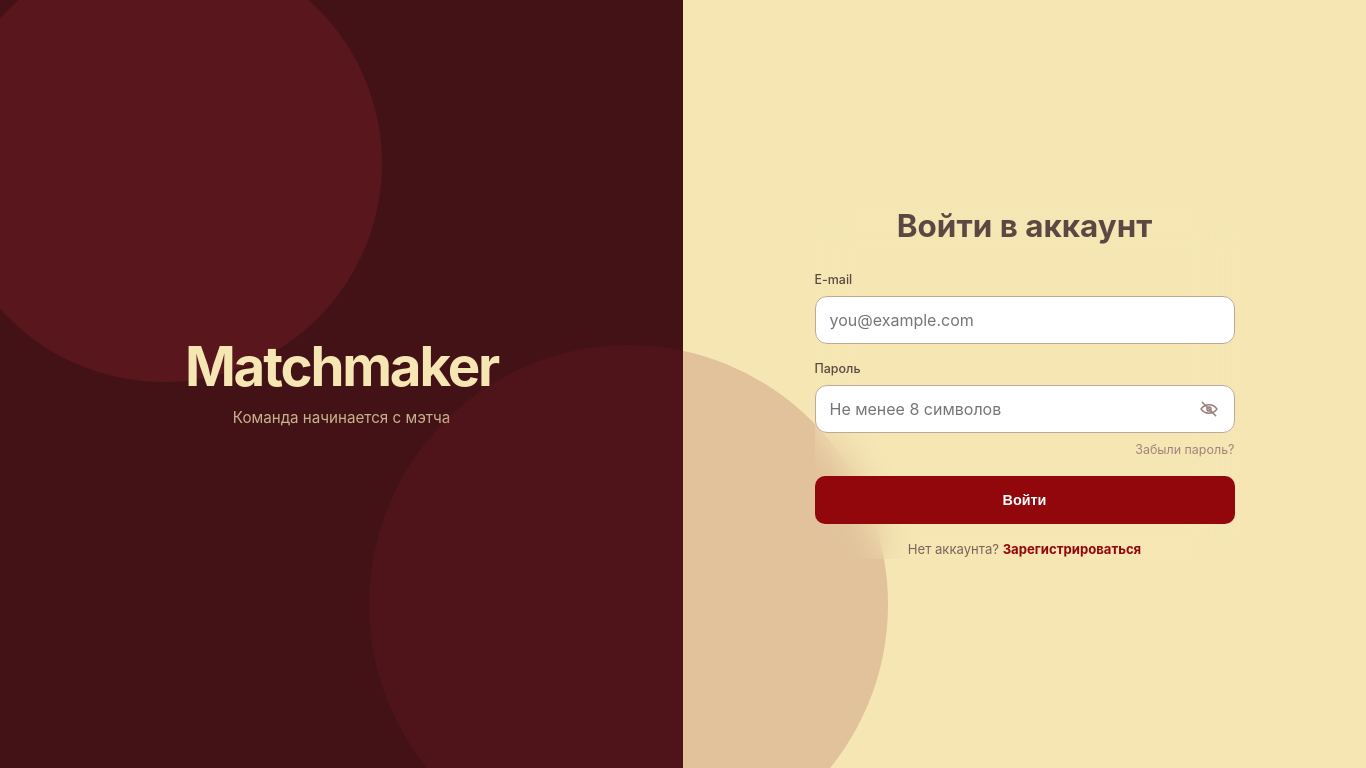
Test: auth pages › shows client validation errors under the corresponding fields
Type "invalid-email" into the field labelled "E-mail" at (1024, 320), box [814, 296, 1234, 344]
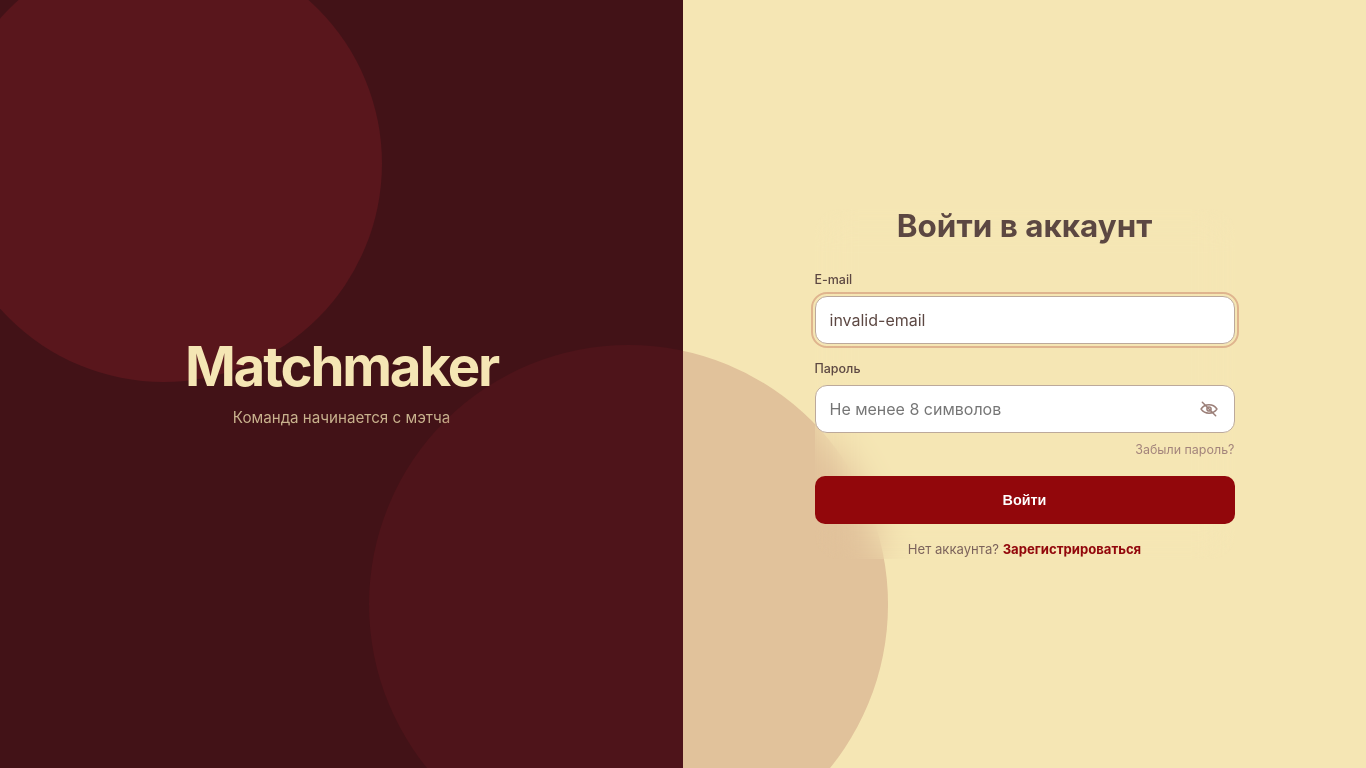
Type "short" into the password field labelled "Пароль" at (1024, 409), box [814, 385, 1234, 433]
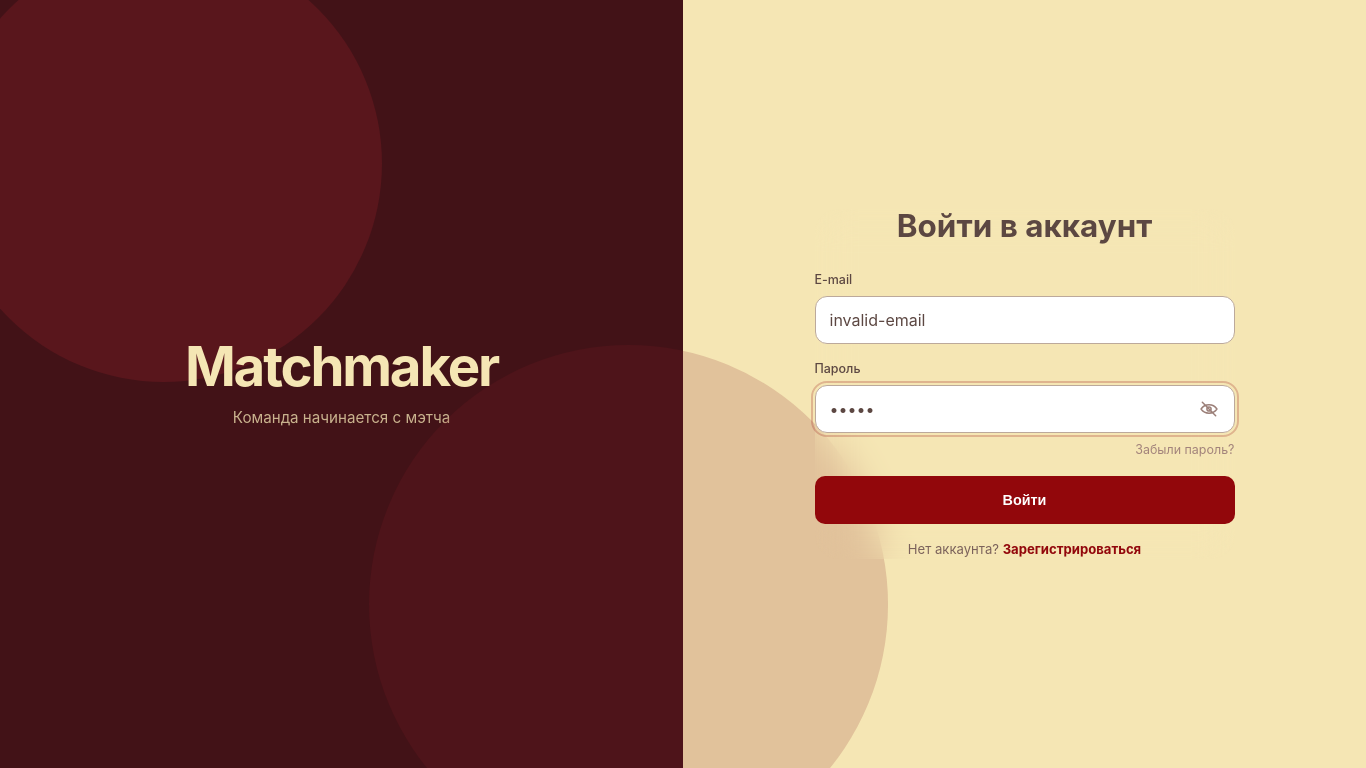
Click the button "Войти" at (1024, 500), box [814, 476, 1234, 524]
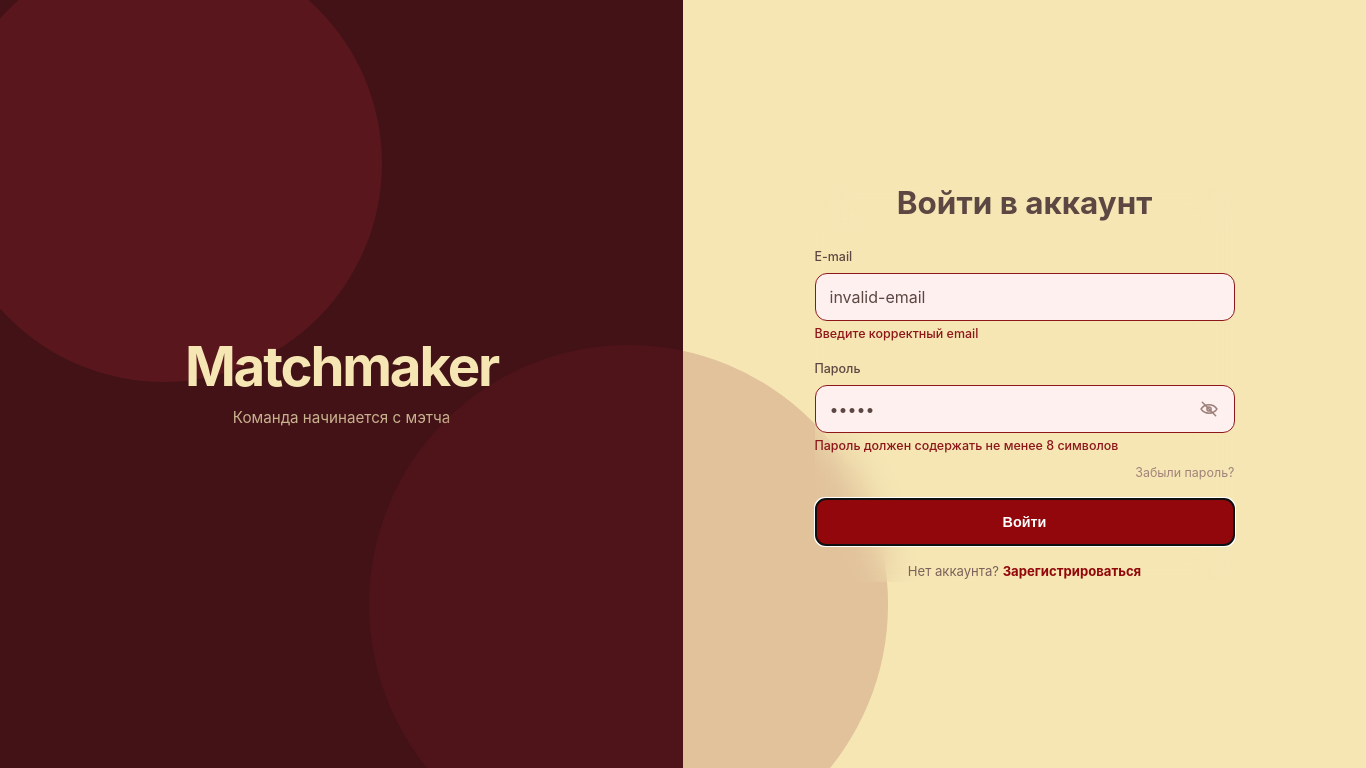
Now the text "Введите корректный email" is shown, box [814, 326, 978, 341]
Now the text "Пароль должен содержать не менее 8 символов" is shown, box [814, 438, 1118, 453]
